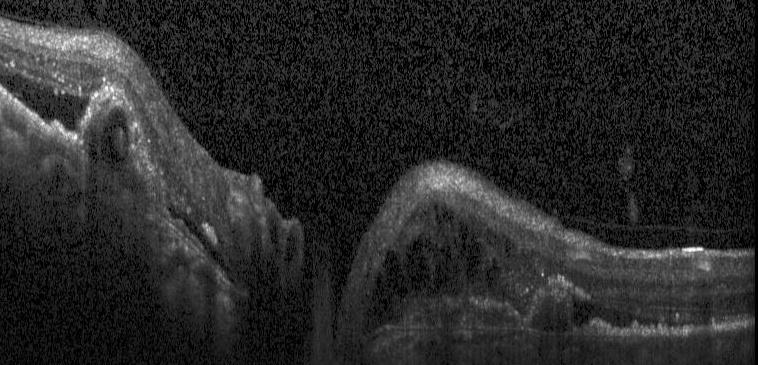intraretinal_cyst: (363, 272, 397, 333), (405, 238, 432, 290), (383, 251, 410, 299), (466, 243, 483, 282), (486, 257, 502, 288), (432, 264, 445, 289), (285, 235, 297, 262), (459, 223, 468, 249), (440, 243, 451, 262), (269, 219, 277, 245), (505, 239, 511, 258), (435, 207, 441, 224)
neuroepithelium_detachment: (0, 73, 89, 132), (169, 209, 236, 283), (572, 301, 660, 326)
subretinal_hyperreflective_material: (404, 297, 520, 329)
vitreomacular_traction: (560, 217, 757, 231)
